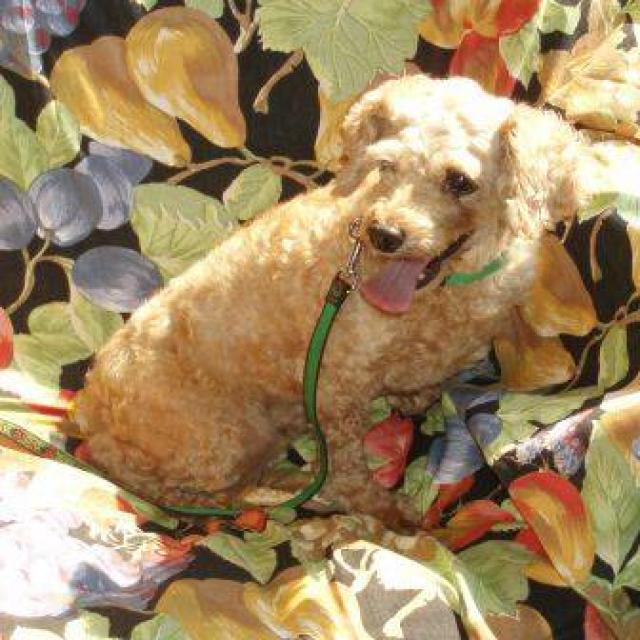dog: (65, 69, 600, 529)
